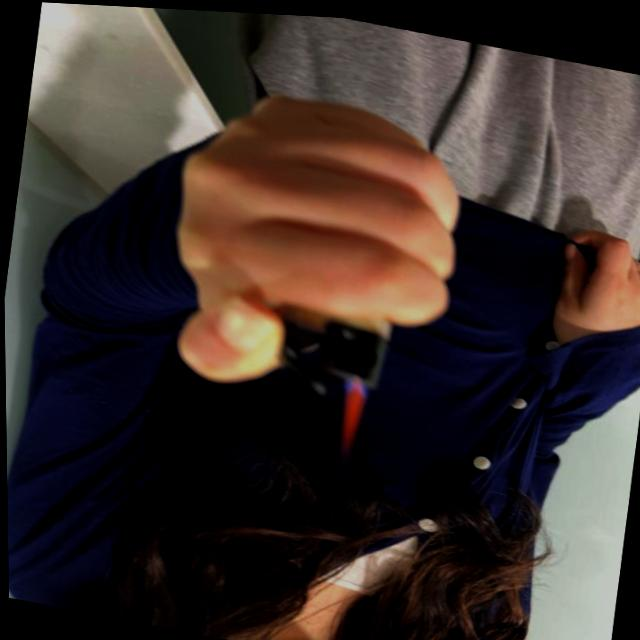Fire: (330, 371, 372, 467)
